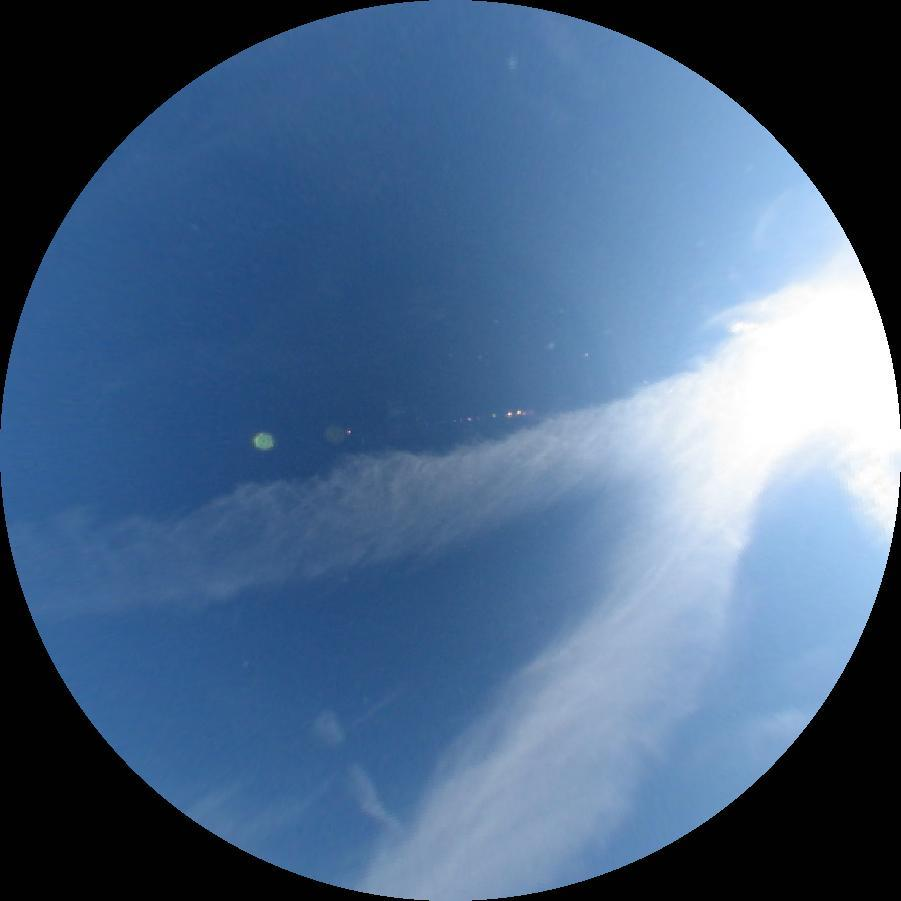contrail veryold: (8, 288, 898, 665)
unknow: (306, 708, 404, 843), (345, 684, 403, 731)
